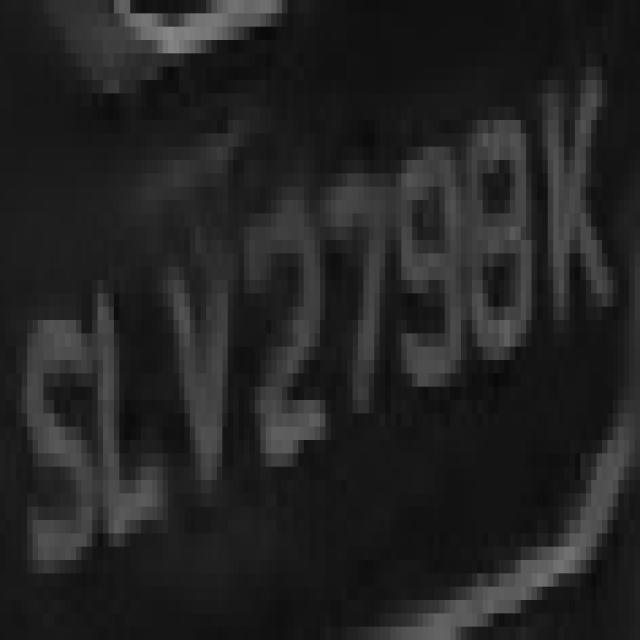2: (238, 147, 326, 533)
7: (304, 147, 401, 413)
8: (456, 93, 542, 400)
9: (380, 106, 472, 426)
K: (521, 54, 618, 374)
L: (86, 254, 174, 574)
S: (5, 267, 87, 600)
V: (158, 200, 250, 573)
